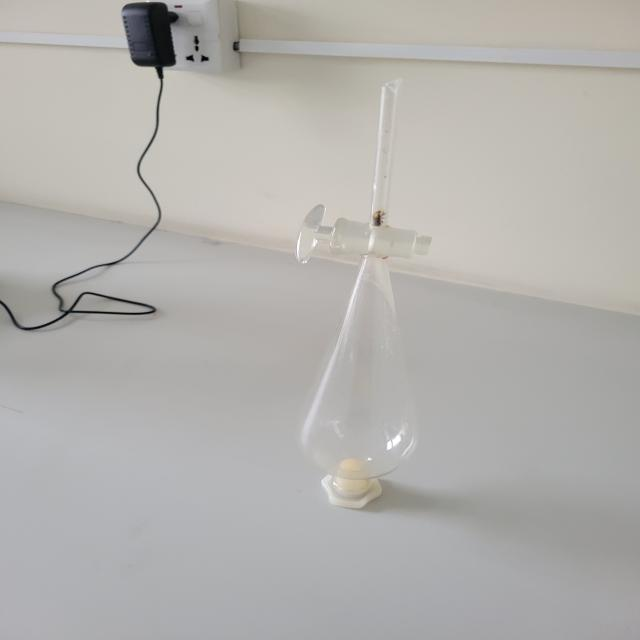Separating_Funnel: (267, 69, 477, 538)
